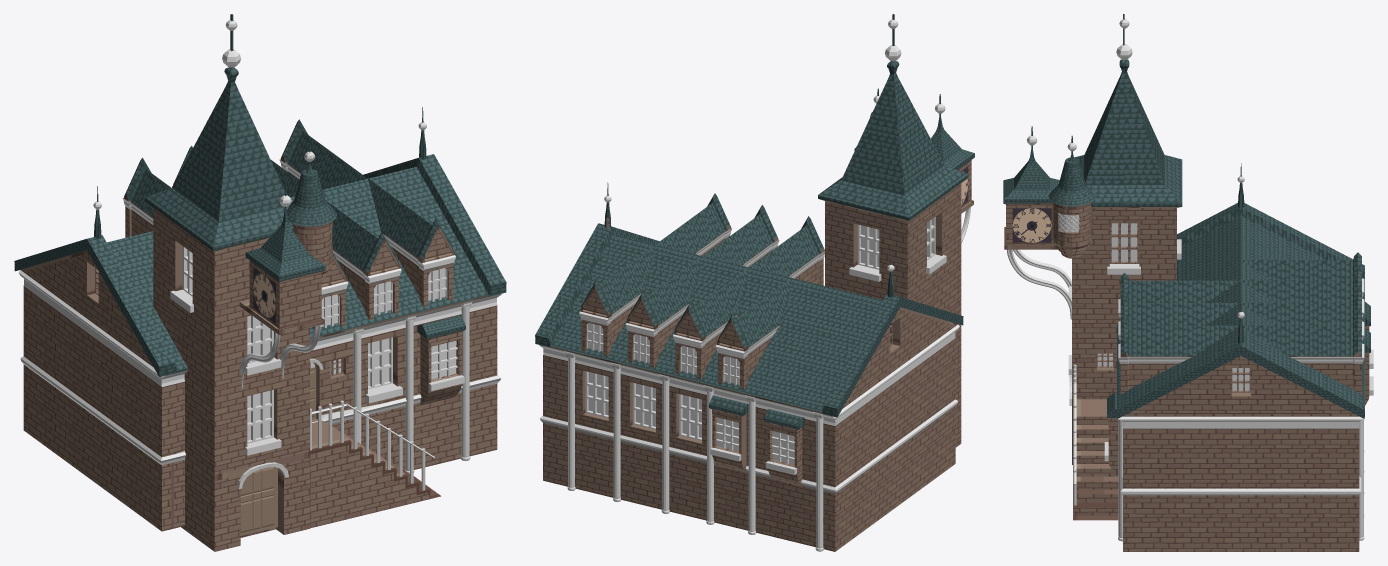
File: 单体建筑2x2.fbx
3 renders of one model, left to right at view 1: azimuth 30°, elevation 25°; view 2: azimuth 150°, elevation 25°; view 3: azimuth 270°, elevation 25°, orthographic. The views are drawn at different scales.
Parts seen in each view (by area): view 1: 2-2_1, 门2; view 2: 2-2_1; view 3: 2-2_1.
Part boxes in pixels (x1=…): 2-2_1: x1=14, y1=14, x2=506, y2=551; 门2: x1=240, y1=467, x2=277, y2=535; 2-2_1: x1=535, y1=14, x2=974, y2=551; 2-2_1: x1=1003, y1=14, x2=1373, y2=551.
Bounding box in the file's own units: 2978 × 4131 × 3215.
Materials: 8 (5 with a texture image).
